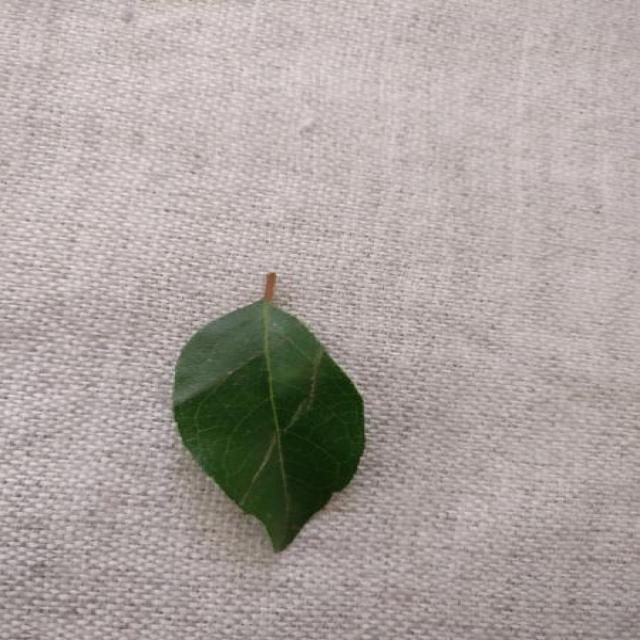curry: (173, 300, 365, 551)
